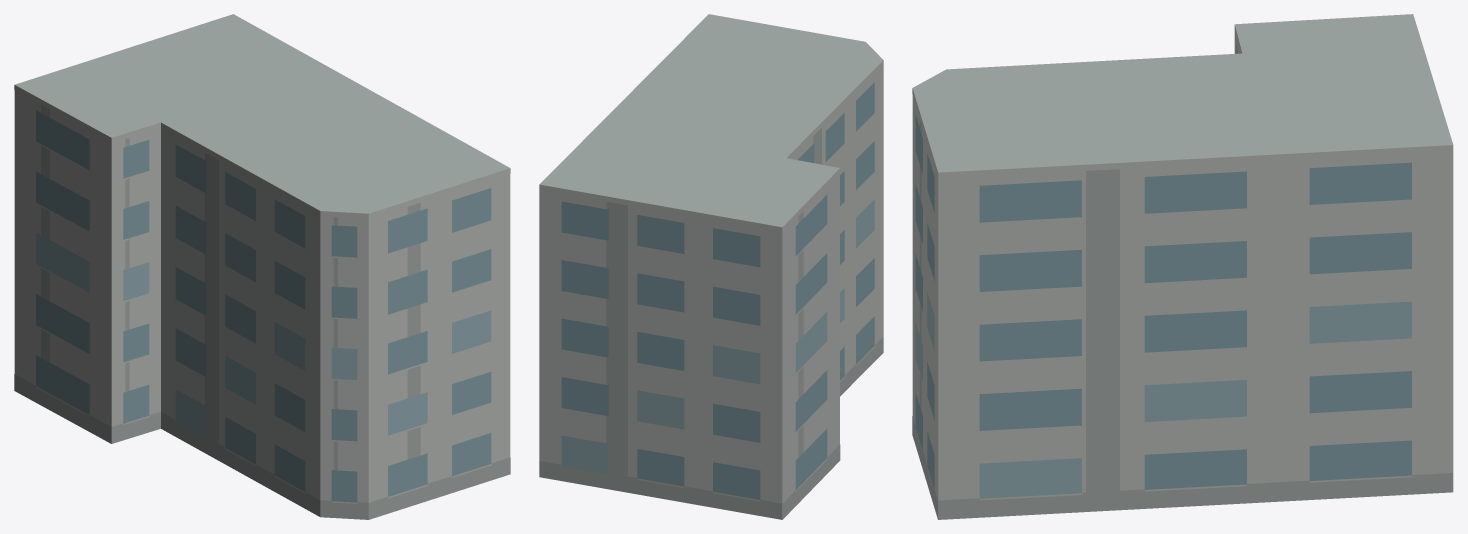
Rendered from survey-upis-32700162.glb.
3 views of the same model, side by side, from view 1: azimuth 30°, elevation 25°; view 2: azimuth 150°, elevation 25°; view 3: azimuth 270°, elevation 25° (orthographic). The views are drawn at different scales.
Visible parts, largest first — view 1: survey-upis-32700162.tmp; view 2: survey-upis-32700162.tmp; view 3: survey-upis-32700162.tmp.
Boxes of the visible parts, <box> form: survey-upis-32700162.tmp: <box>14,14,510,519</box>; survey-upis-32700162.tmp: <box>539,14,883,519</box>; survey-upis-32700162.tmp: <box>912,14,1453,519</box>.
Bounding box in the file's own units: 13.13 × 13.4 × 18.93.
